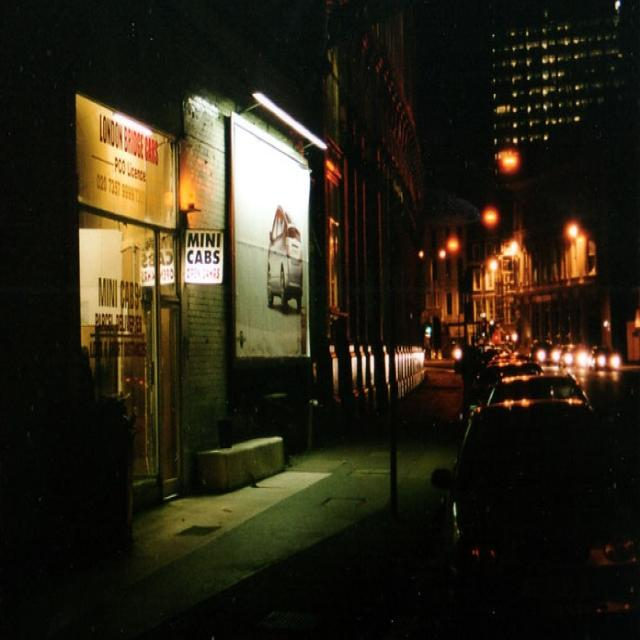Car: (435, 398, 640, 640)
